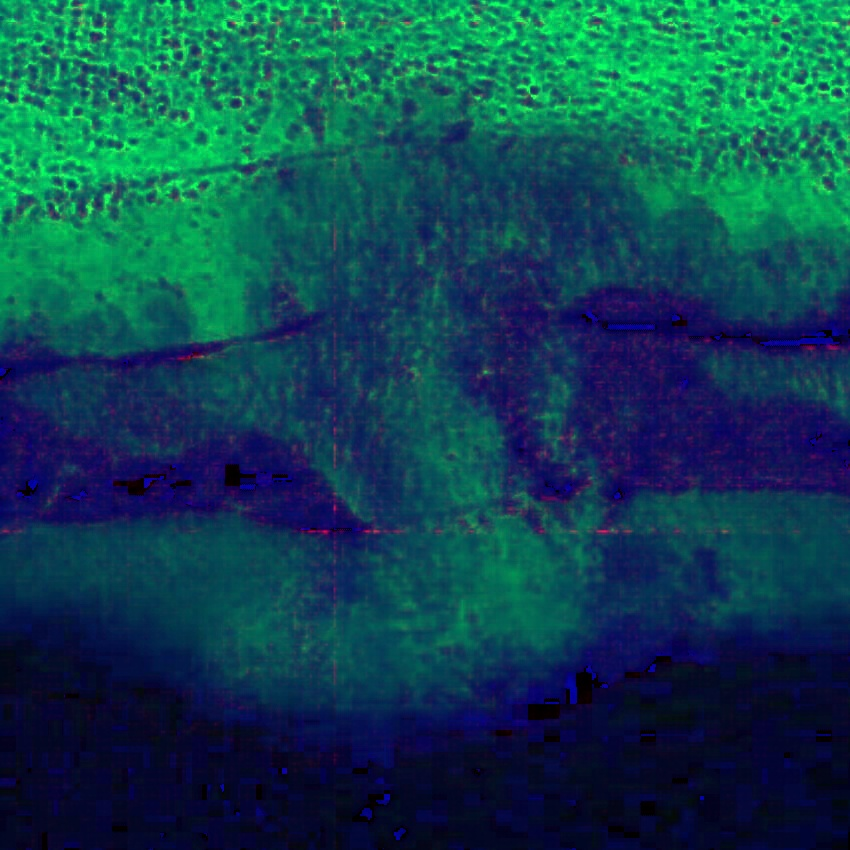rip_current: (207, 91, 627, 615)
